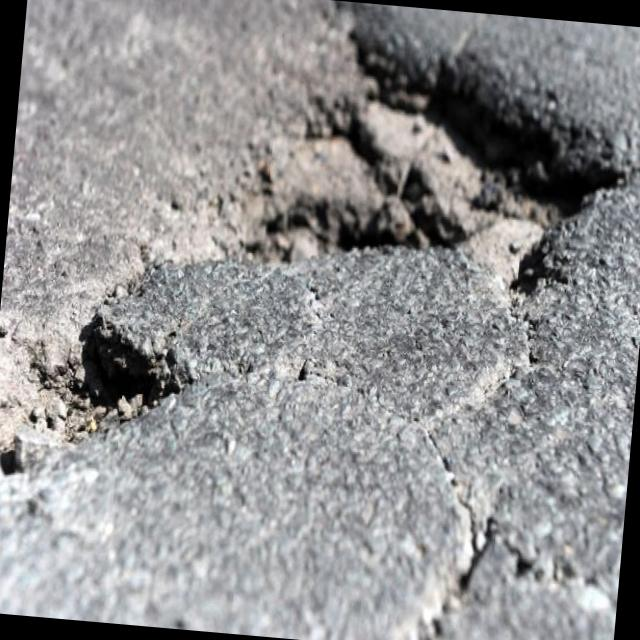Potholes: (216, 6, 640, 338), (0, 261, 261, 476)
